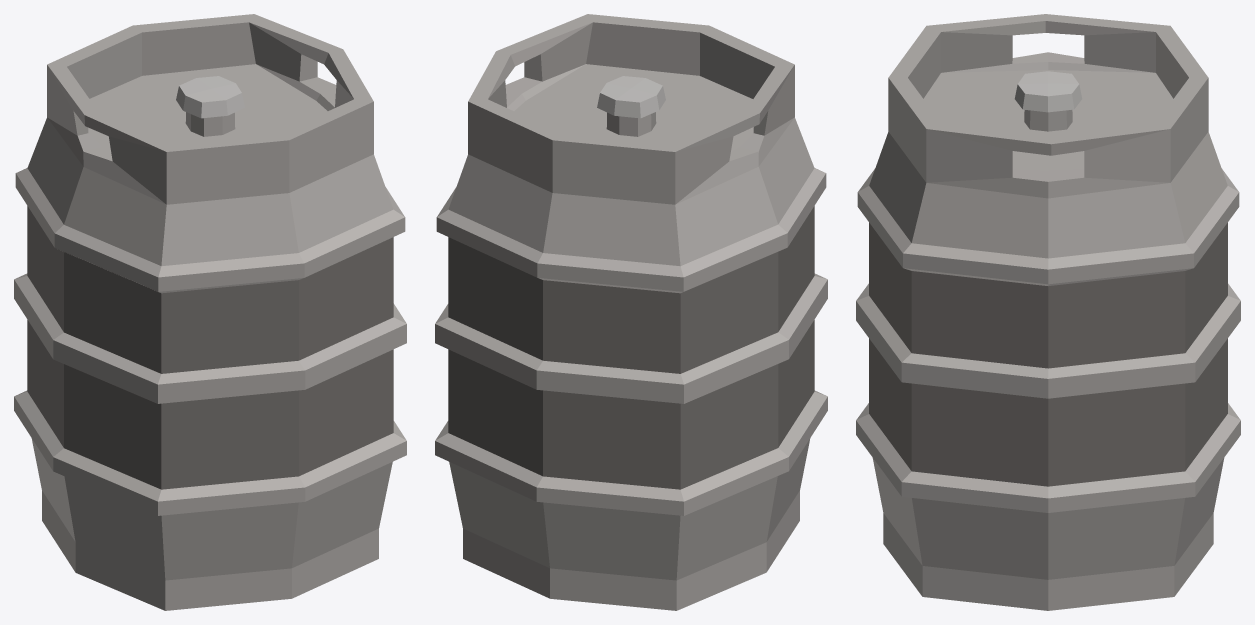
Rendered from Keg.obj.
The picture shows the model from 3 angles, left to right: view 1: azimuth 30°, elevation 25°; view 2: azimuth 150°, elevation 25°; view 3: azimuth 270°, elevation 25°; orthographic projection. The views are drawn at different scales.
Bounding box in the file's own units: 0.4327 × 0.6 × 0.4488.
Materials: 1 (1 with a texture image).
